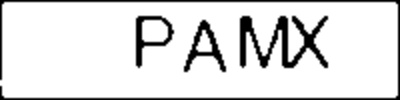A: (180, 16, 231, 77)
M: (236, 13, 294, 69)
P: (130, 11, 175, 71)
X: (287, 12, 333, 71)
